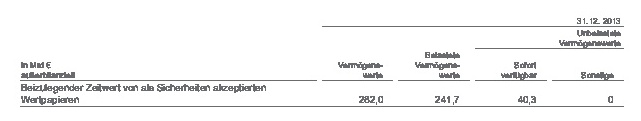table: (0, 0, 641, 121)
